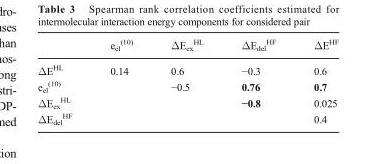table: (37, 37, 338, 125)
table column: (221, 37, 294, 125), (151, 37, 221, 125), (90, 37, 151, 125), (37, 37, 90, 125), (294, 37, 338, 125)
table column header: (37, 37, 338, 57)
table row: (37, 37, 338, 57), (37, 57, 338, 77), (37, 77, 338, 94), (37, 94, 338, 110), (37, 110, 338, 125)
